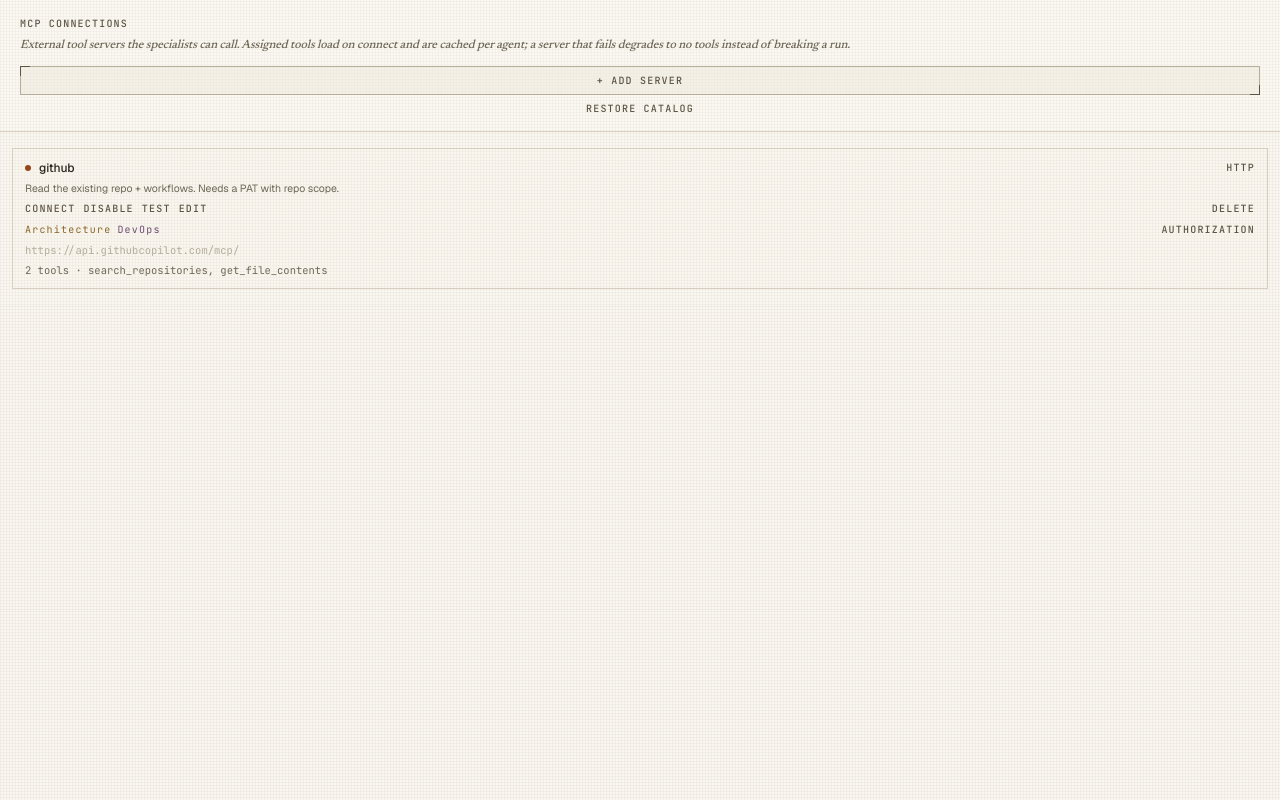
it: McpPanel › rejects malformed credentials instead of silently dropping them
Click the button "EDIT". click: [193, 208]
box: [179, 201, 207, 216]
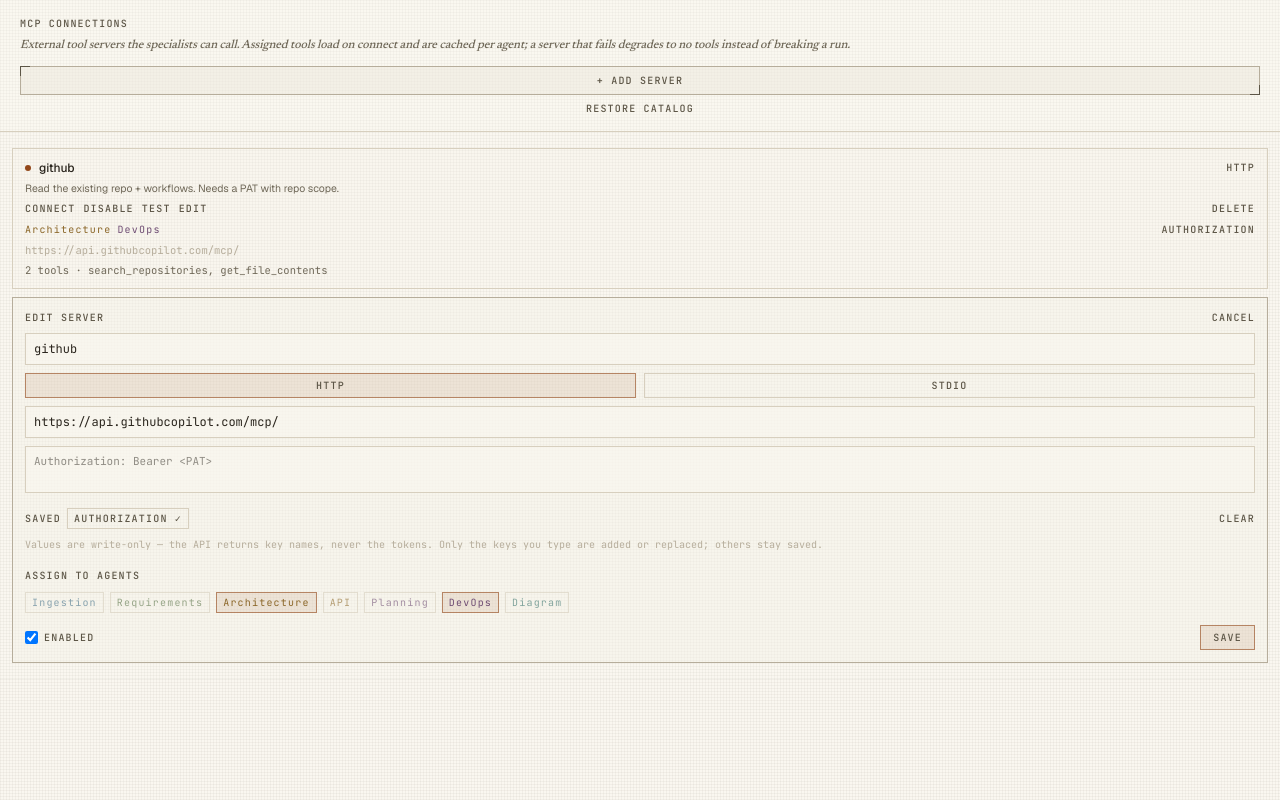
Type "Bearer missing-key" into the text box named "Credentials". click: [640, 470]
box: [25, 446, 1255, 493]
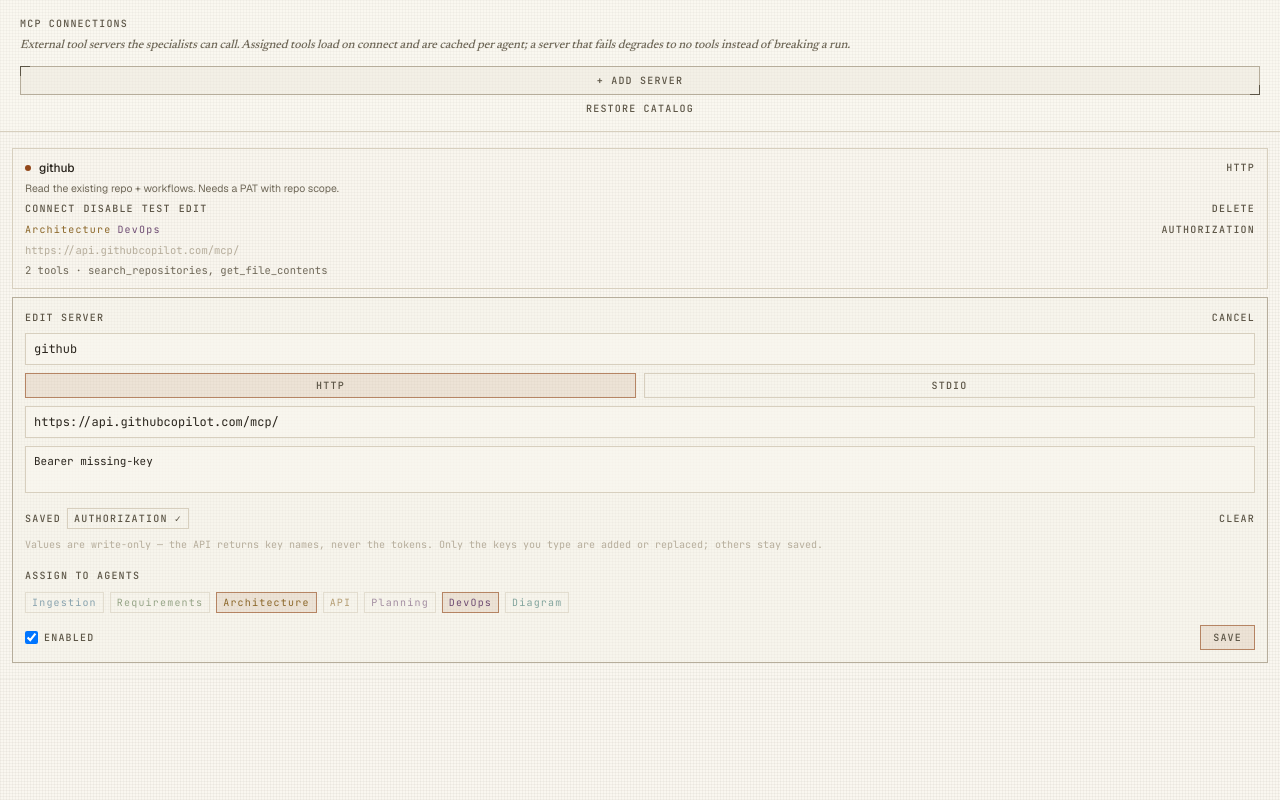
Click the button "SAVE". click: [1228, 637]
box: [1200, 625, 1255, 650]
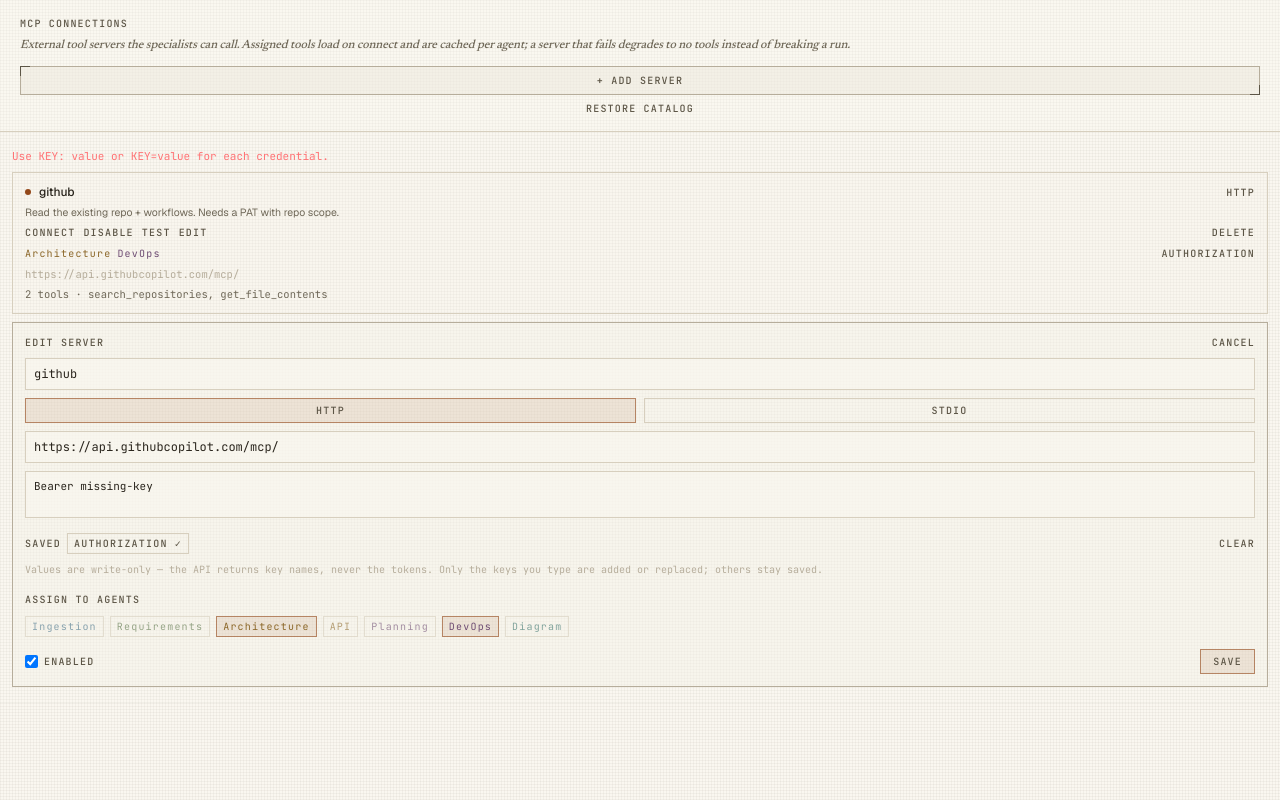
Expected: the text "Use KEY: value or KEY=value for each credential." is shown, [12, 148, 329, 162]
